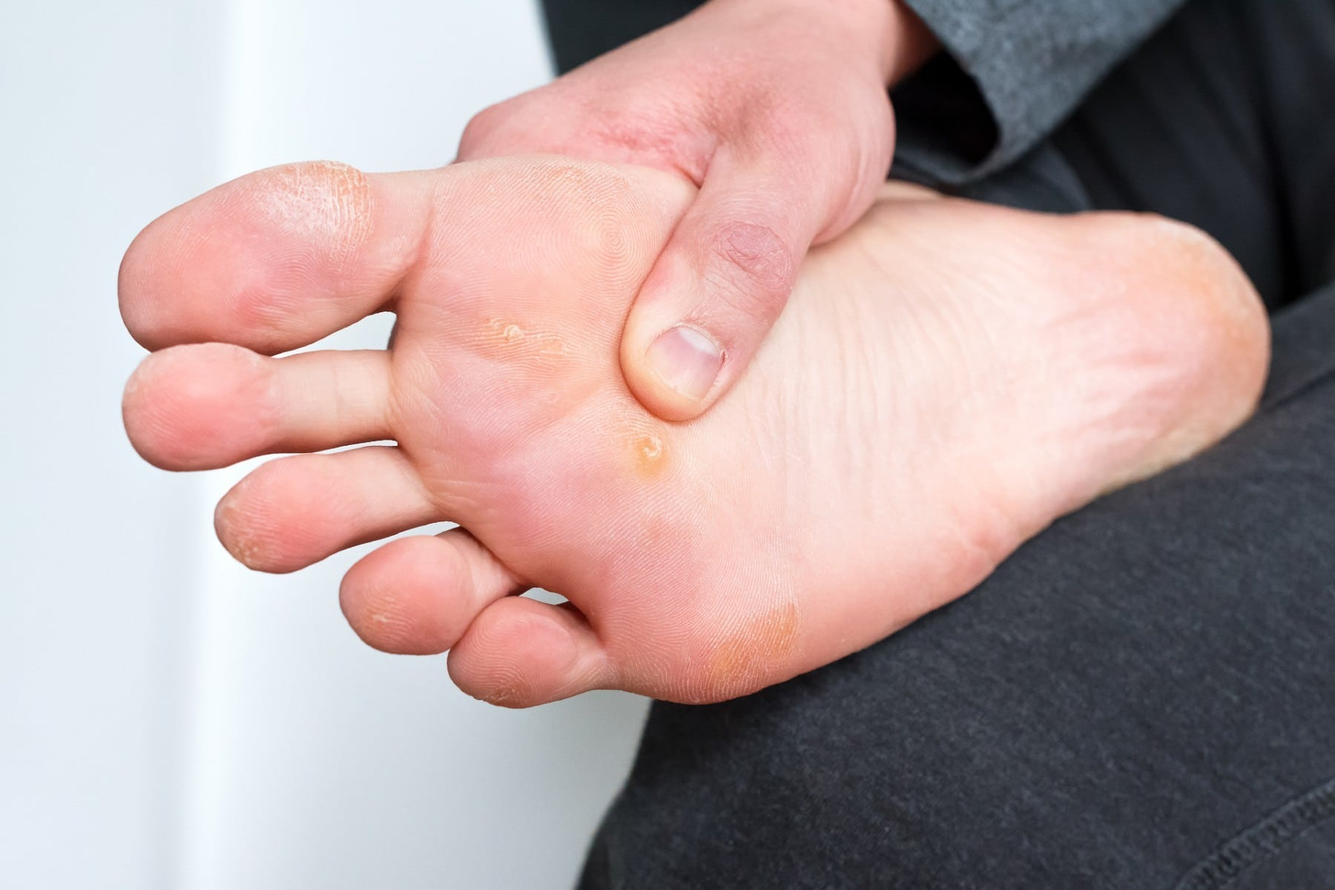Warts: (463, 291, 549, 367), (613, 411, 687, 490)
